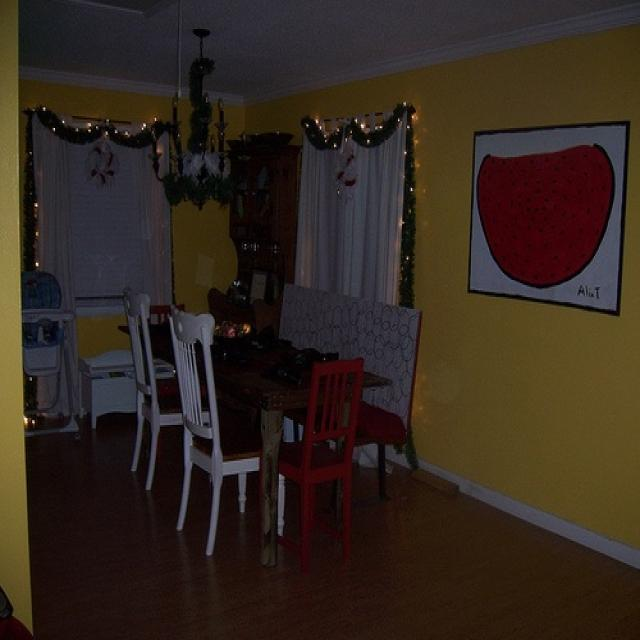chair: (164, 302, 262, 558), (276, 355, 365, 573), (123, 284, 185, 494), (20, 268, 80, 440)
diningtable: (116, 314, 394, 567)
